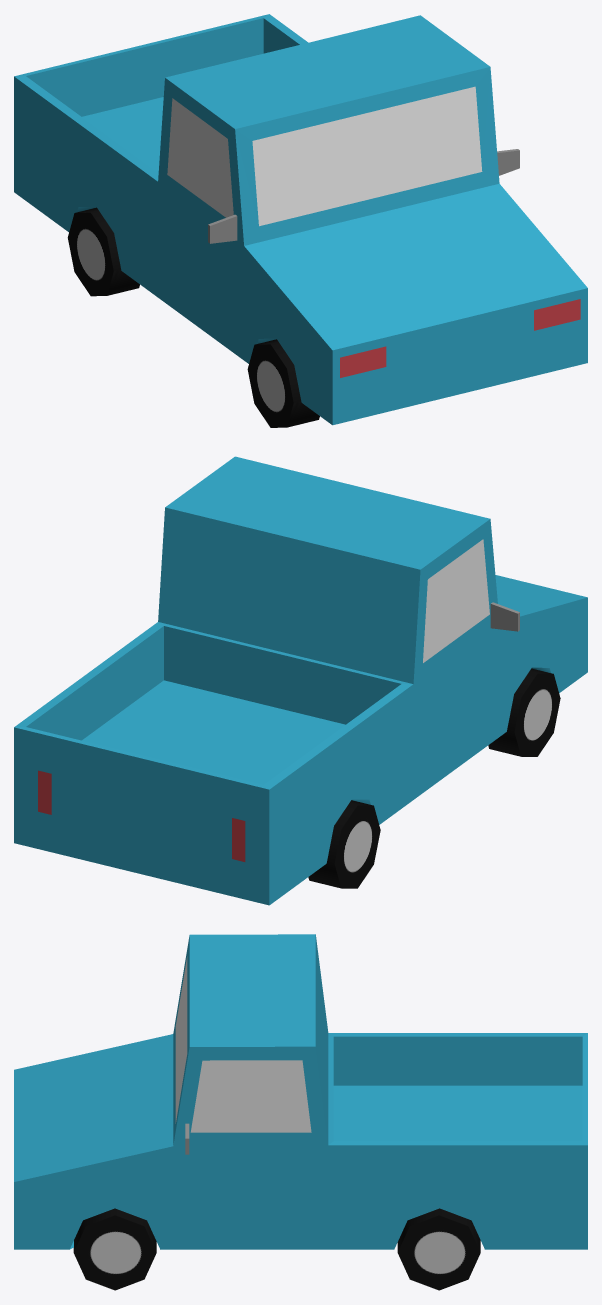
Rendered from Car_2.FBX.
3 renders of one model, top to bottom at view 1: azimuth 30°, elevation 25°; view 2: azimuth 150°, elevation 25°; view 3: azimuth 270°, elevation 25°, orthographic. The views are drawn at different scales.
Parts seen in each view (by area): view 1: Car 02; view 2: Car 02; view 3: Car 02.
Boxes of the visible parts, <box> form: Car 02: <box>14,14,587,427</box>; Car 02: <box>14,456,587,905</box>; Car 02: <box>14,934,587,1290</box>.
Bounding box in the file's own units: 1.74 × 1.43 × 3.09.
1 material, 1 textured.
